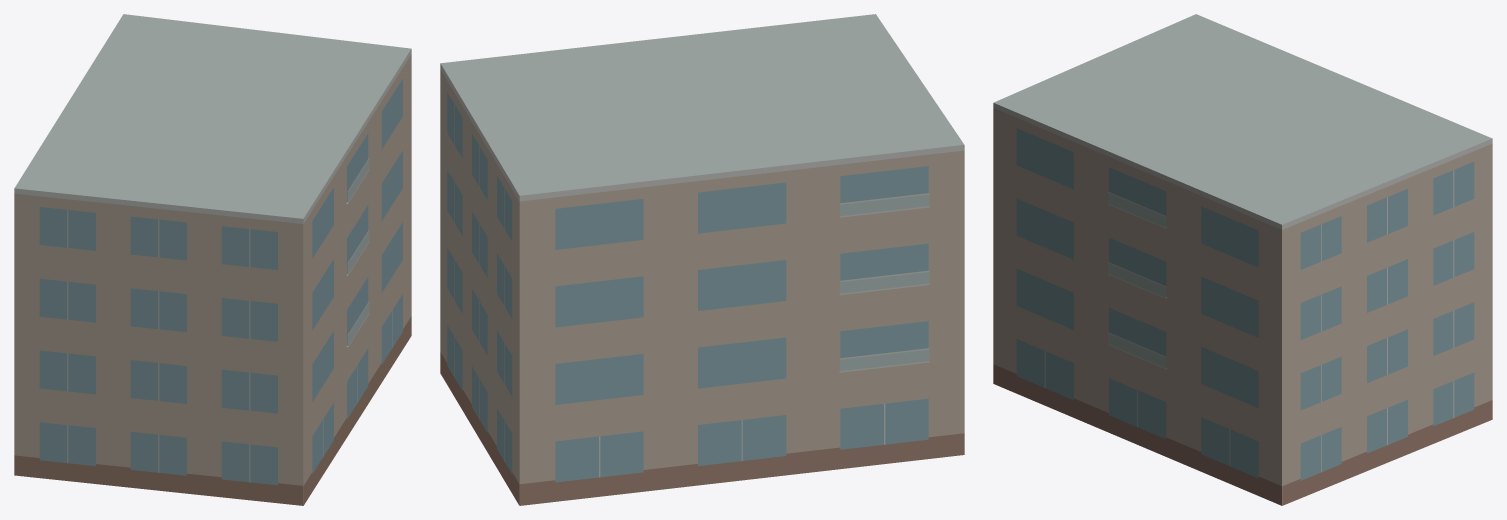
The model's file is survey-upis-32780661.glb.
The picture shows the model from 3 angles, left to right: view 1: azimuth 30°, elevation 25°; view 2: azimuth 150°, elevation 25°; view 3: azimuth 270°, elevation 25°; orthographic projection. The views are drawn at different scales.
Visible parts, largest first — view 1: survey-upis-32780661.tmp; view 2: survey-upis-32780661.tmp; view 3: survey-upis-32780661.tmp.
Boxes of the visible parts, left/top/right/bottom form: survey-upis-32780661.tmp: left=14, top=14, right=411, bottom=505; survey-upis-32780661.tmp: left=440, top=14, right=964, bottom=505; survey-upis-32780661.tmp: left=993, top=14, right=1492, bottom=505.
Size of the model in its own units: 21.48 by 13.35 by 21.5.
